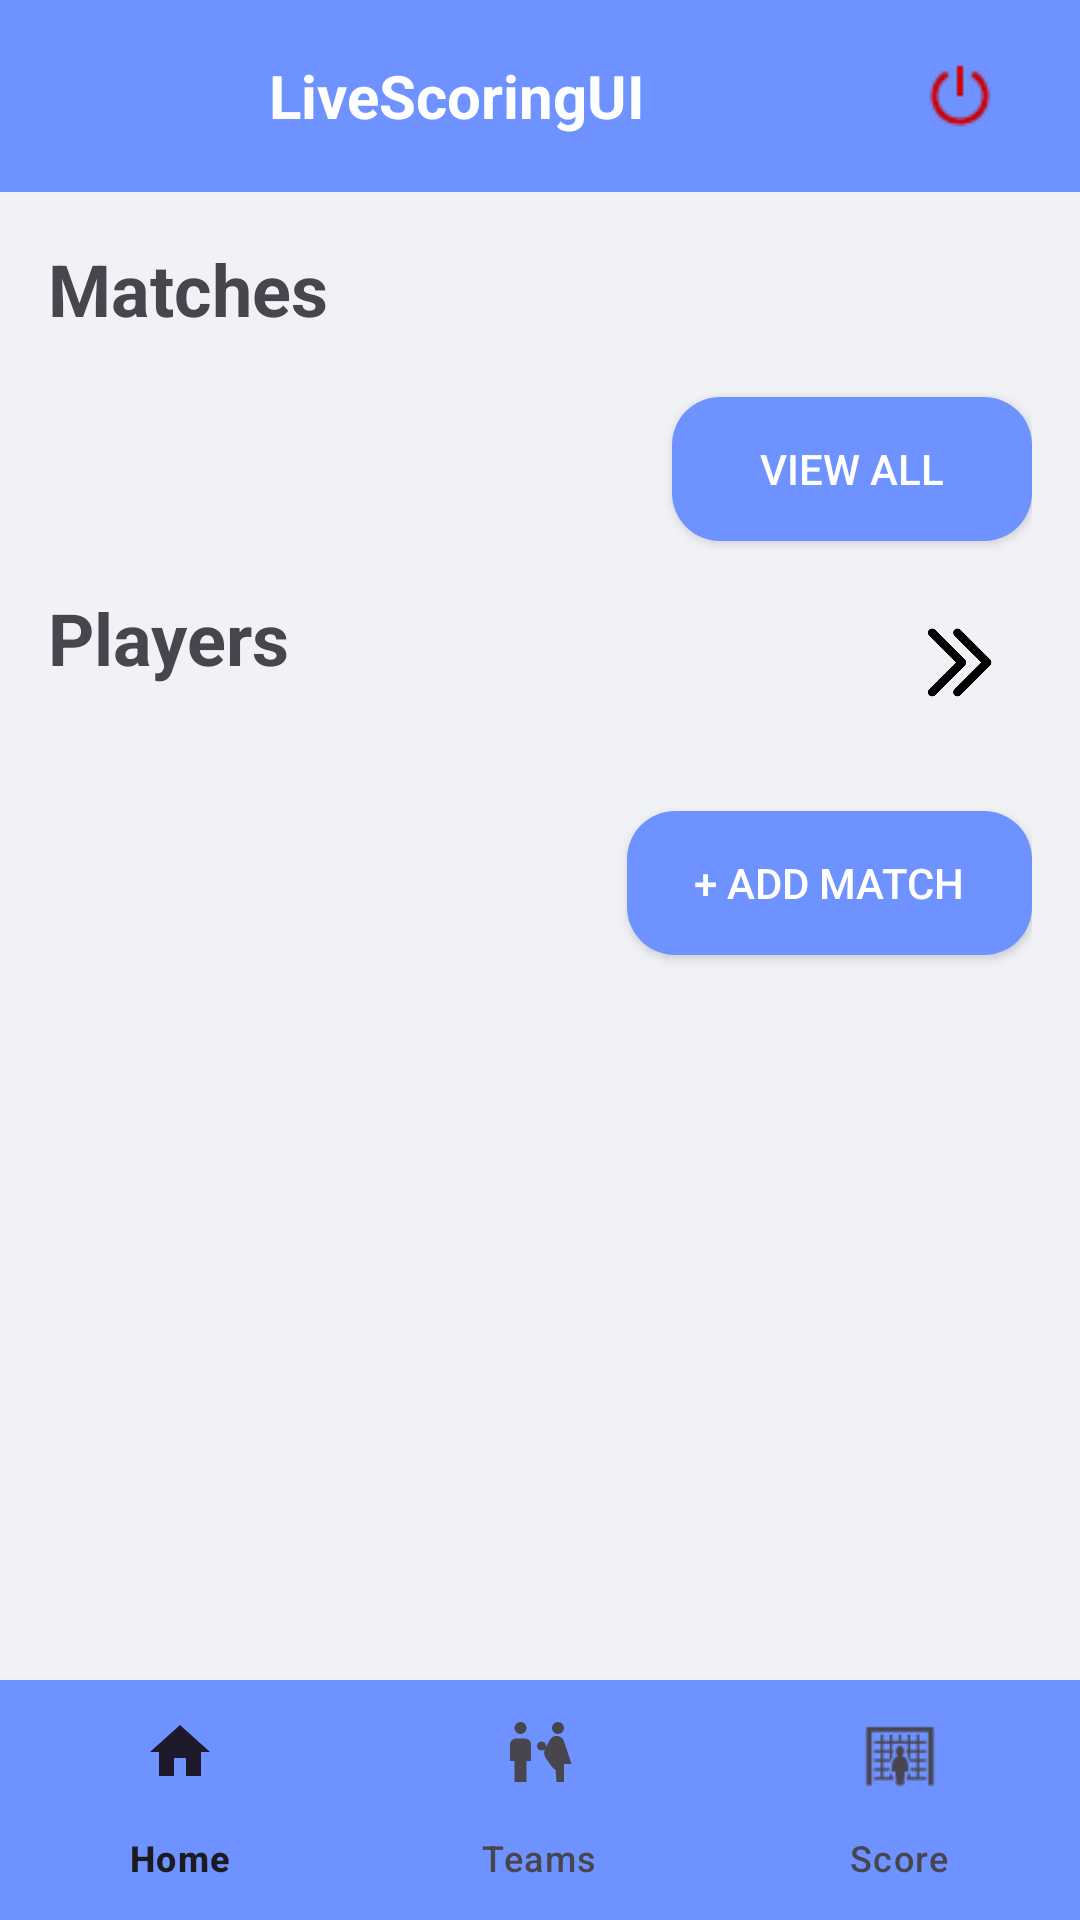

Icons on this 1080*1920 Android screen, each with the point to tap as [x,y]:
Exit: [960,96]
